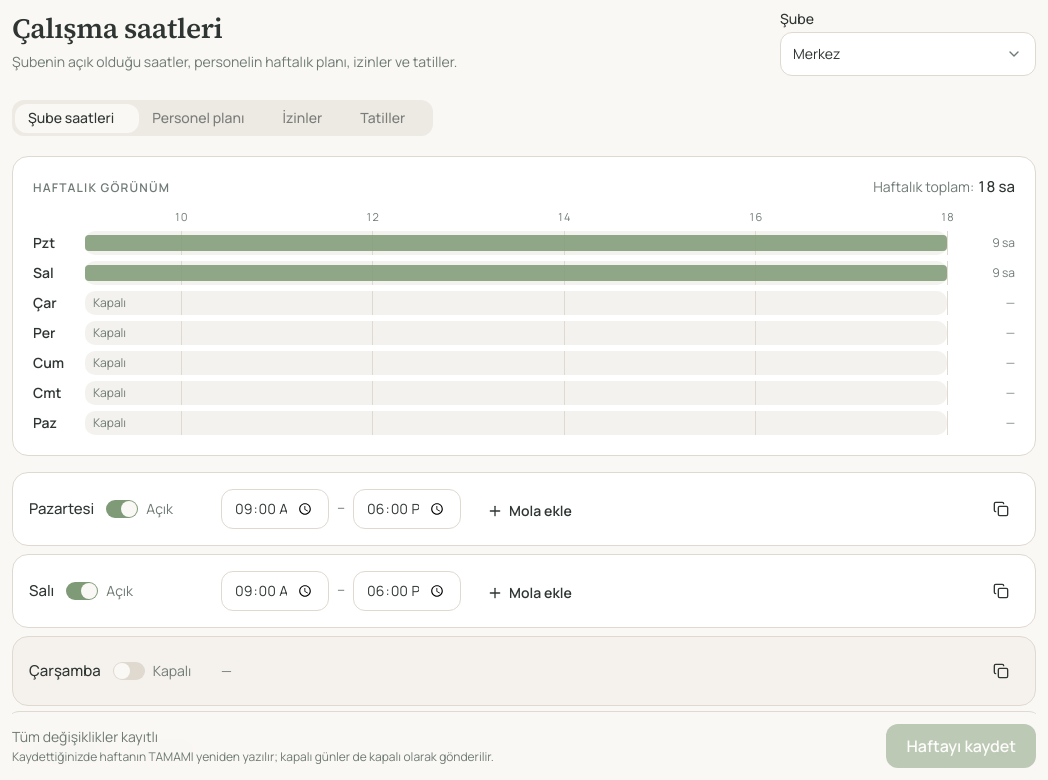
Test: çalışma saatleri — şube › değişiklik yokken kaydet PASİF, değişince AKTİF ve sayaç görünüyor
The width and height of the screenshot is (1048, 780).
Expected: the button "Haftayı kaydet" is disabled, [886,724,1036,768]
Expected: the text "Tüm değişiklikler kayıtlı" is shown, [12,727,158,746]
Replace the text in the 3rd time field named "Açılış" with "10:00" at (275, 591), box [221,571,329,611]
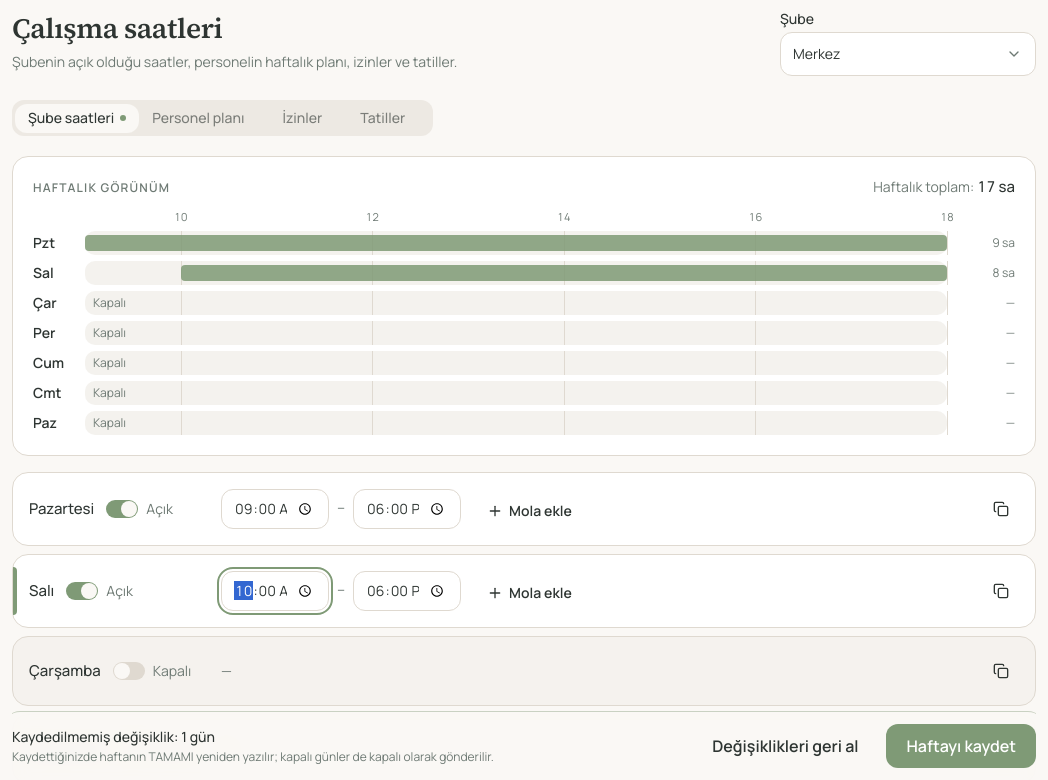
Now the button "Haftayı kaydet" is enabled, box [886,724,1036,768]
Now the text "Kaydedilmemiş değişiklik: 1 gün" is shown, box [12,727,215,746]
